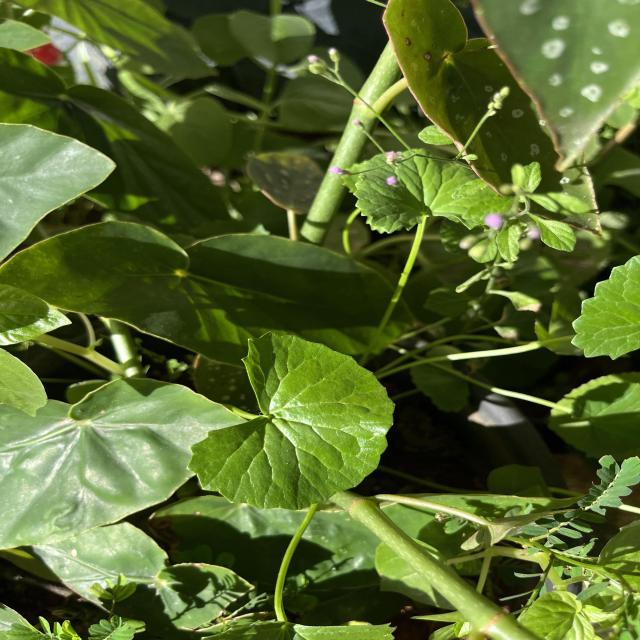Centella asiatica: (183, 327, 399, 515)
